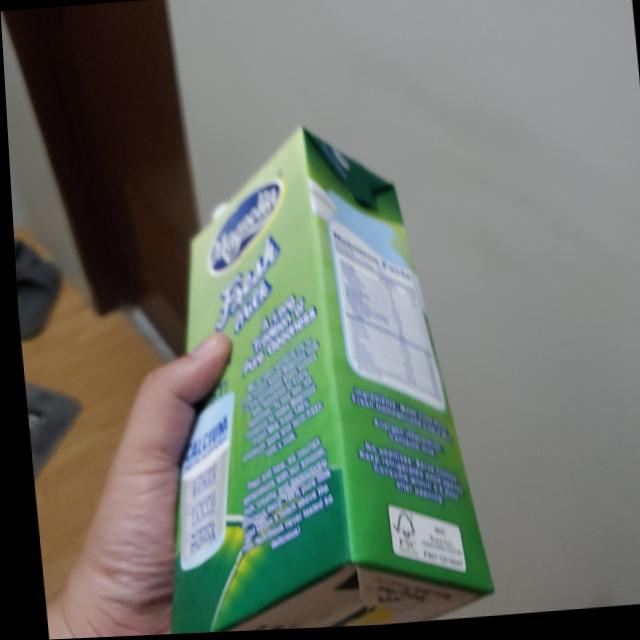milk: (118, 113, 490, 636)
